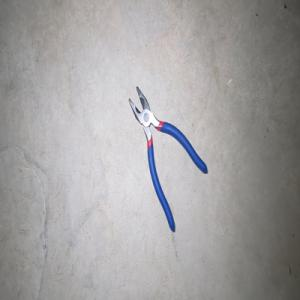Pliers: (128, 85, 207, 233)
